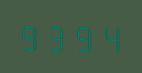four: (96, 20, 121, 53)
nine: (70, 19, 95, 53), (18, 19, 43, 52)
three: (44, 19, 69, 52)
